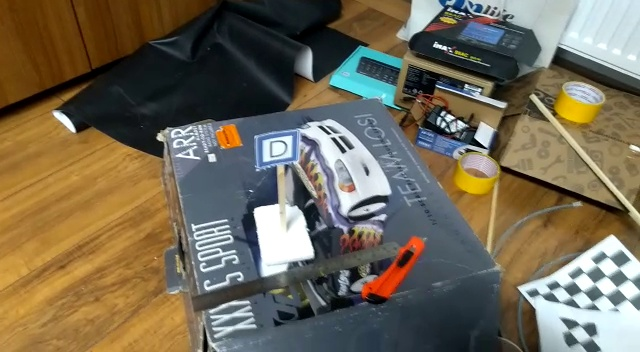durak: (252, 129, 301, 170)
